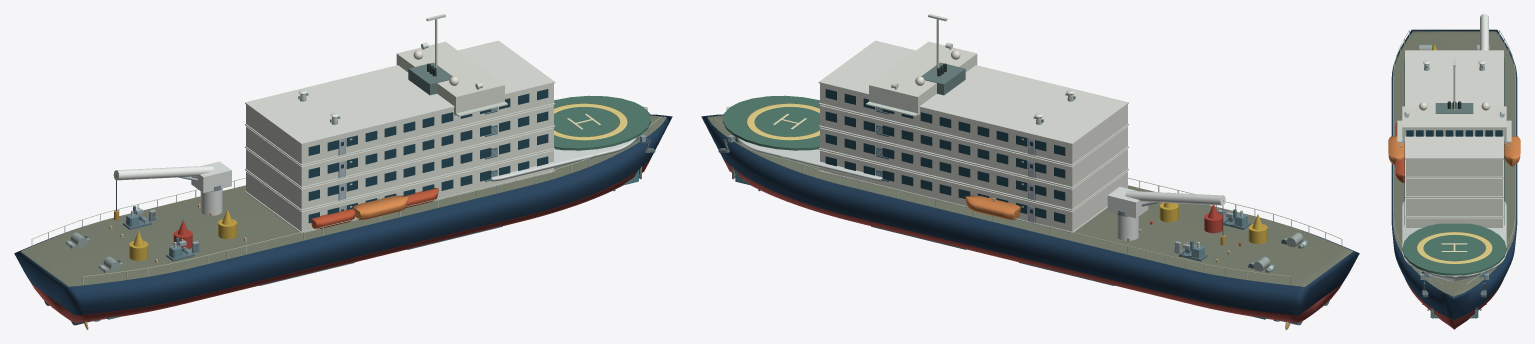
The model's file is nlv-pharos.lod1.glb.
3 views of the same model, side by side, from view 1: azimuth 30°, elevation 25°; view 2: azimuth 150°, elevation 25°; view 3: azimuth 270°, elevation 25° (orthographic). The views are drawn at different scales.
Parts seen in each view (by area): view 1: nlv-pharos.structure.hull.outer-hull-shell.1, nlv-pharos.structure.decks.main-strength-deck.1, nlv-pharos.accommodation.superstructure.superstructure-weath, nlv-pharos.accommodation.superstructure.deck-3-enclosure.1, nlv-pharos.accommodation.superstructure.deck-2-enclosure.1, nlv-pharos.accommodation.superstructure.deck-4-enclosure.1, nlv-pharos.cargo.aviation.helicopter-landing-deck.1, nlv-pharos.accommodation.superstructure.deck-1-enclosure.1, nlv-pharos.structure.hull.antifouling-underwater-shell.1, nlv-pharos.navigation.bridge.wheelhouse.1, nlv-pharos.structure.decks.forecastle-platform.1, nlv-pharos.cargo.buoy-handling-crane.buoy-handling-crane-art (+9 smaller); view 2: nlv-pharos.structure.hull.outer-hull-shell.1, nlv-pharos.structure.decks.main-strength-deck.1, nlv-pharos.accommodation.superstructure.superstructure-weath, nlv-pharos.accommodation.superstructure.deck-3-enclosure.1, nlv-pharos.accommodation.superstructure.deck-2-enclosure.1, nlv-pharos.accommodation.superstructure.deck-4-enclosure.1, nlv-pharos.accommodation.superstructure.deck-1-enclosure.1, nlv-pharos.cargo.aviation.helicopter-landing-deck.1, nlv-pharos.structure.hull.antifouling-underwater-shell.1, nlv-pharos.navigation.bridge.wheelhouse.1, nlv-pharos.structure.decks.forecastle-platform.1, nlv-pharos.cargo.buoy-handling-crane.buoy-handling-crane-art (+9 smaller); view 3: nlv-pharos.accommodation.superstructure.superstructure-weath, nlv-pharos.structure.decks.main-strength-deck.1, nlv-pharos.cargo.aviation.helicopter-landing-deck.1, nlv-pharos.structure.hull.outer-hull-shell.1, nlv-pharos.navigation.bridge.wheelhouse.1, nlv-pharos.accommodation.superstructure.deck-3-enclosure.1, nlv-pharos.accommodation.superstructure.deck-2-enclosure.1, nlv-pharos.accommodation.superstructure.deck-4-enclosure.1, nlv-pharos.accommodation.superstructure.deck-1-enclosure.1, nlv-pharos.structure.decks.forecastle-platform.1, nlv-pharos.cargo.aviation.flight-deck-landing-circle.1, nlv-pharos.structure.hull.antifouling-underwater-shell.1 (+11 smaller).
Part boxes in pixels (bbox=[...]): nlv-pharos.structure.hull.outer-hull-shell.1: bbox=[14, 114, 672, 315]; nlv-pharos.structure.decks.main-strength-deck.1: bbox=[21, 115, 666, 286]; nlv-pharos.accommodation.superstructure.superstructure-weath: bbox=[245, 40, 555, 144]; nlv-pharos.accommodation.superstructure.deck-3-enclosure.1: bbox=[246, 105, 553, 186]; nlv-pharos.accommodation.superstructure.deck-2-enclosure.1: bbox=[246, 127, 553, 209]; nlv-pharos.accommodation.superstructure.deck-4-enclosure.1: bbox=[246, 83, 553, 164]; nlv-pharos.cargo.aviation.helicopter-landing-deck.1: bbox=[553, 95, 650, 150]; nlv-pharos.accommodation.superstructure.deck-1-enclosure.1: bbox=[246, 150, 553, 231]; nlv-pharos.structure.hull.antifouling-underwater-shell.1: bbox=[32, 159, 650, 322]; nlv-pharos.navigation.bridge.wheelhouse.1: bbox=[396, 41, 504, 115]; nlv-pharos.structure.decks.forecastle-platform.1: bbox=[491, 137, 636, 181]; nlv-pharos.cargo.buoy-handling-crane.buoy-handling-crane-art: bbox=[113, 165, 214, 180]; nlv-pharos.structure.hull.outer-hull-shell.1: bbox=[701, 114, 1359, 315]; nlv-pharos.structure.decks.main-strength-deck.1: bbox=[707, 115, 1352, 286]; nlv-pharos.accommodation.superstructure.superstructure-weath: bbox=[818, 40, 1128, 144]; nlv-pharos.accommodation.superstructure.deck-3-enclosure.1: bbox=[820, 105, 1127, 186]; nlv-pharos.accommodation.superstructure.deck-2-enclosure.1: bbox=[820, 127, 1127, 209]; nlv-pharos.accommodation.superstructure.deck-4-enclosure.1: bbox=[820, 83, 1127, 164]; nlv-pharos.accommodation.superstructure.deck-1-enclosure.1: bbox=[820, 150, 1127, 231]; nlv-pharos.cargo.aviation.helicopter-landing-deck.1: bbox=[723, 95, 820, 150]; nlv-pharos.structure.hull.antifouling-underwater-shell.1: bbox=[723, 159, 1341, 322]; nlv-pharos.navigation.bridge.wheelhouse.1: bbox=[869, 41, 977, 115]; nlv-pharos.structure.decks.forecastle-platform.1: bbox=[737, 137, 882, 181]; nlv-pharos.cargo.buoy-handling-crane.buoy-handling-crane-art: bbox=[1125, 191, 1225, 205]; nlv-pharos.accommodation.superstructure.superstructure-weath: bbox=[1405, 50, 1503, 159]; nlv-pharos.structure.decks.main-strength-deck.1: bbox=[1393, 31, 1515, 296]; nlv-pharos.cargo.aviation.helicopter-landing-deck.1: bbox=[1402, 223, 1506, 275]; nlv-pharos.structure.hull.outer-hull-shell.1: bbox=[1391, 29, 1517, 319]; nlv-pharos.navigation.bridge.wheelhouse.1: bbox=[1402, 106, 1506, 143]; nlv-pharos.accommodation.superstructure.deck-3-enclosure.1: bbox=[1406, 178, 1502, 196]; nlv-pharos.accommodation.superstructure.deck-2-enclosure.1: bbox=[1406, 198, 1502, 215]; nlv-pharos.accommodation.superstructure.deck-4-enclosure.1: bbox=[1406, 159, 1502, 176]; nlv-pharos.accommodation.superstructure.deck-1-enclosure.1: bbox=[1406, 217, 1502, 227]; nlv-pharos.structure.decks.forecastle-platform.1: bbox=[1402, 201, 1506, 281]; nlv-pharos.cargo.aviation.flight-deck-landing-circle.1: bbox=[1416, 232, 1492, 263]; nlv-pharos.structure.hull.antifouling-underwater-shell.1: bbox=[1405, 279, 1502, 329].
Bounding box in the file's own units: 84.2 × 26.78 × 17.38.
